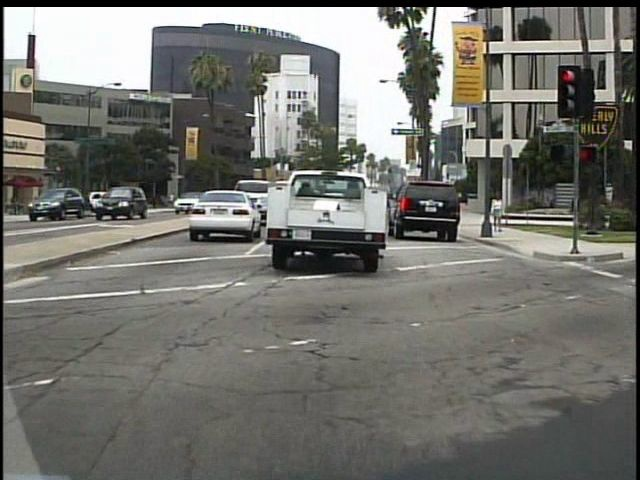person: (489, 189, 507, 238)
